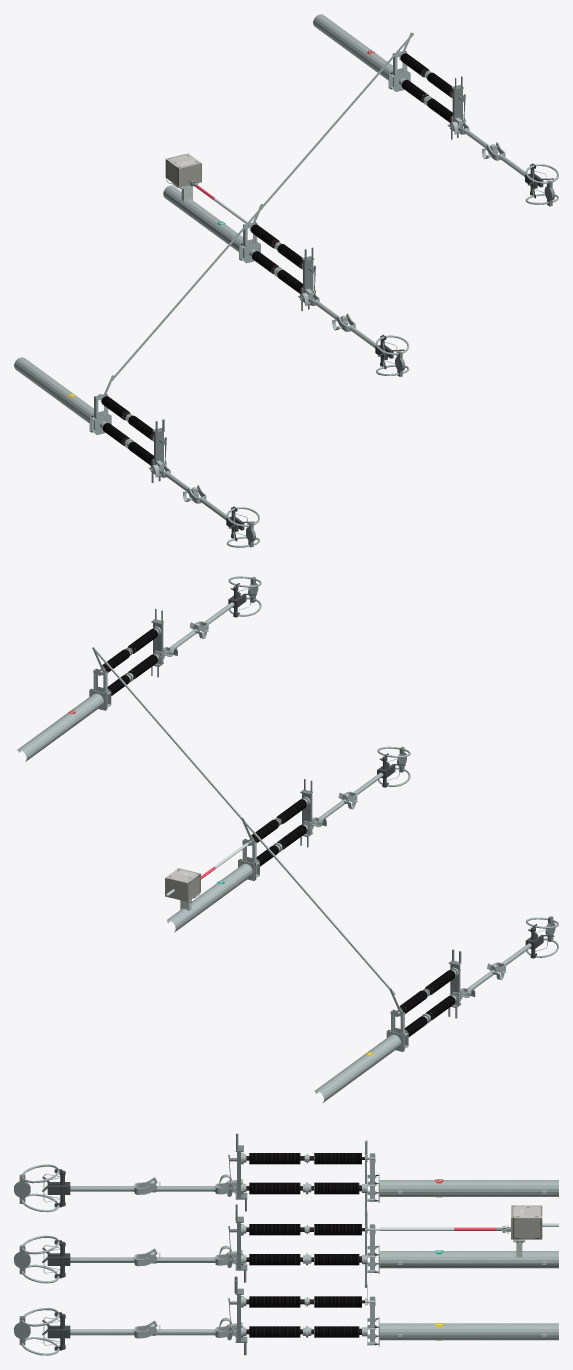
The model's file is glkg-11m00000000620258-geode.glb.
The picture shows the model from 3 angles, top to bottom: view 1: azimuth 30°, elevation 25°; view 2: azimuth 150°, elevation 25°; view 3: azimuth 270°, elevation 25°; orthographic projection. The views are drawn at different scales.
Visible parts, largest first — view 1: Node; view 2: Node; view 3: Node.
Part boxes in pixels (x1=…): Node: x1=14, y1=14, x2=558, y2=547; Node: x1=16, y1=576, x2=558, y2=1102; Node: x1=14, y1=1133, x2=558, y2=1355.
Size of the model in its own units: 7.67 by 7.49 by 9.56.
Materials: 17 (17 with a texture image).
